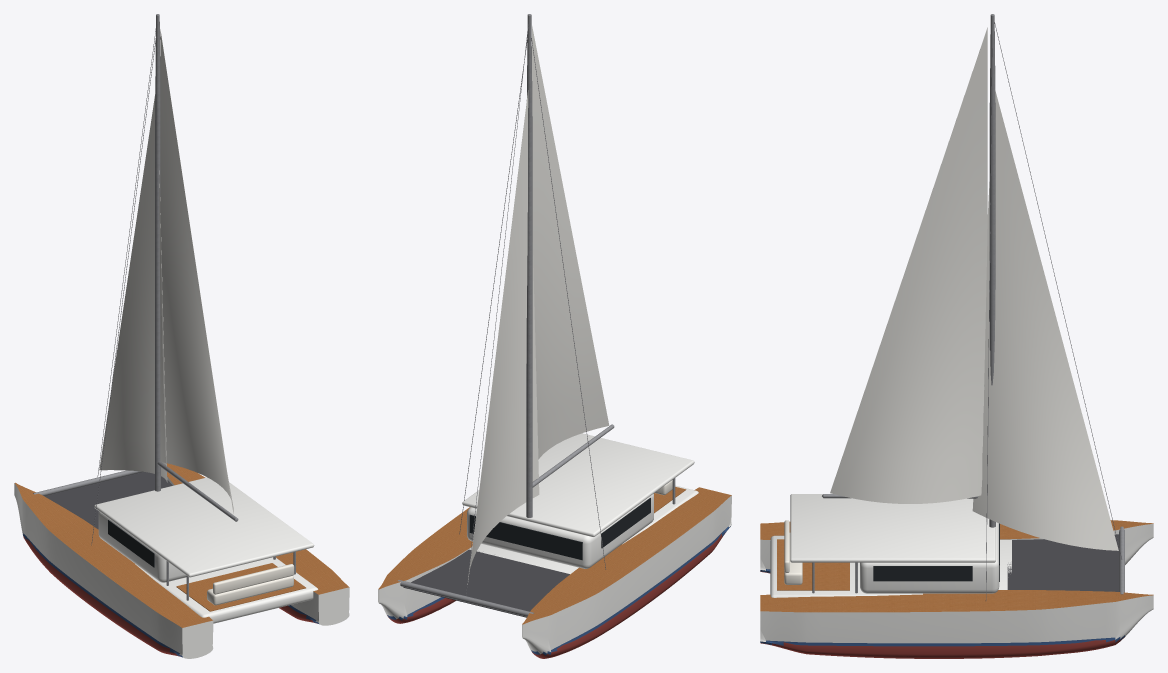
File: boat_catamaran.gltf
3 views of the same model, side by side, from view 1: azimuth 30°, elevation 25°; view 2: azimuth 150°, elevation 25°; view 3: azimuth 270°, elevation 25° (orthographic). The views are drawn at different scales.
Parts seen in each view (by area): view 1: boat_catamaran; view 2: boat_catamaran; view 3: boat_catamaran.
Boxes of the visible parts, x1,y1,x2,y2 form: boat_catamaran: [14, 14, 349, 658]; boat_catamaran: [378, 14, 731, 658]; boat_catamaran: [760, 14, 1153, 658].
Size of the model in its own units: 6.66 by 20.1 by 11.85.
10 materials, 2 textured.
